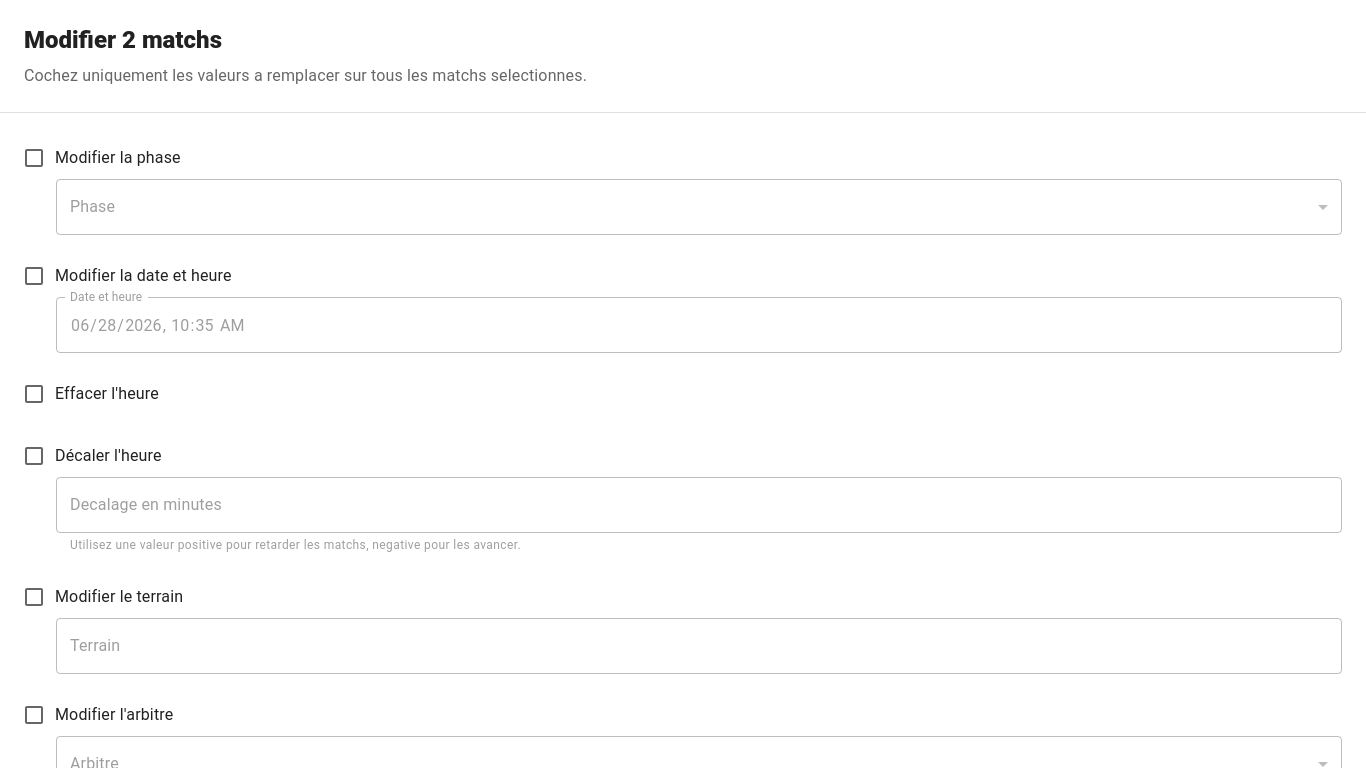
Test: BulkUpdateGamesForm › should display an API error and keep the form open
The image size is (1366, 768).
Step 1. Click the checkbox labelled "Modifier le terrain" → (103, 597), box [22,585,183,609]
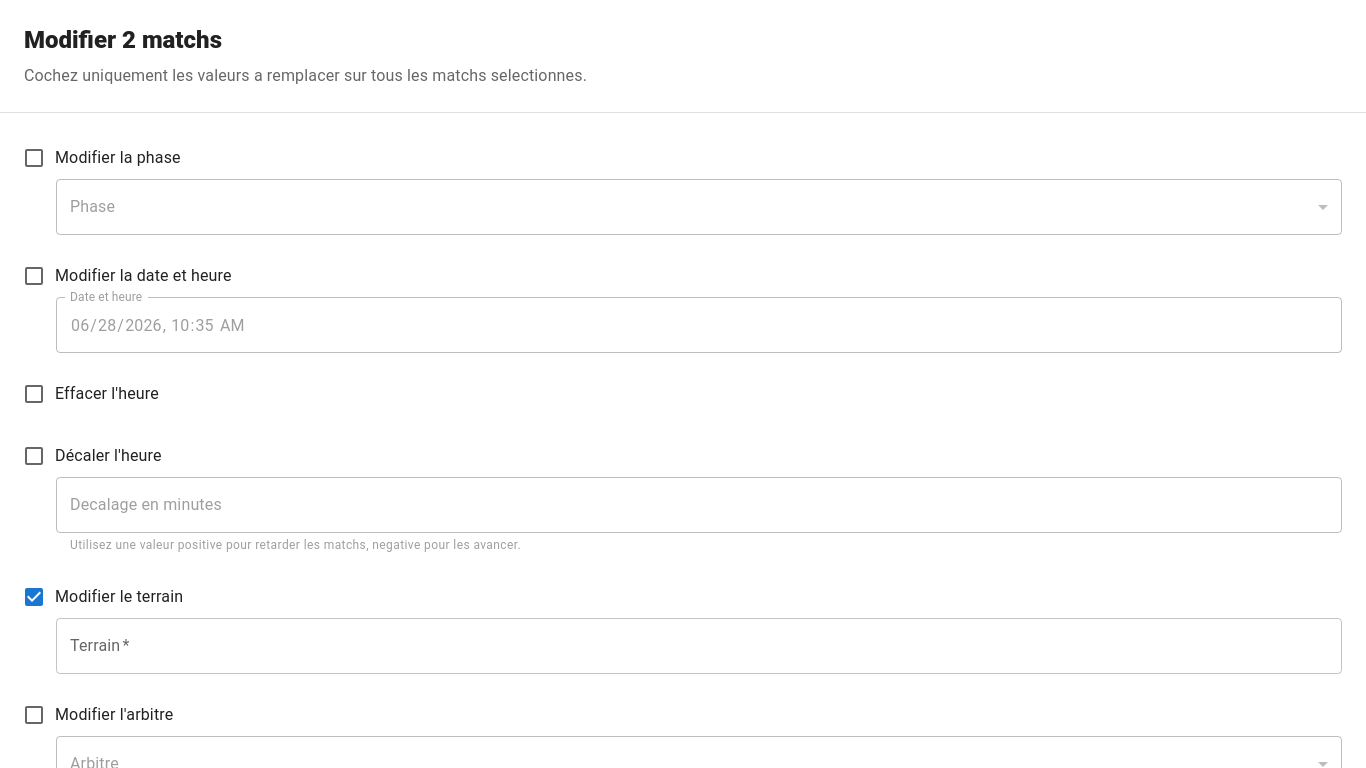
Step 2. Type "Central" into the field labelled "Terrain" → (699, 646), box [56,618,1342,674]
(page scrolled)
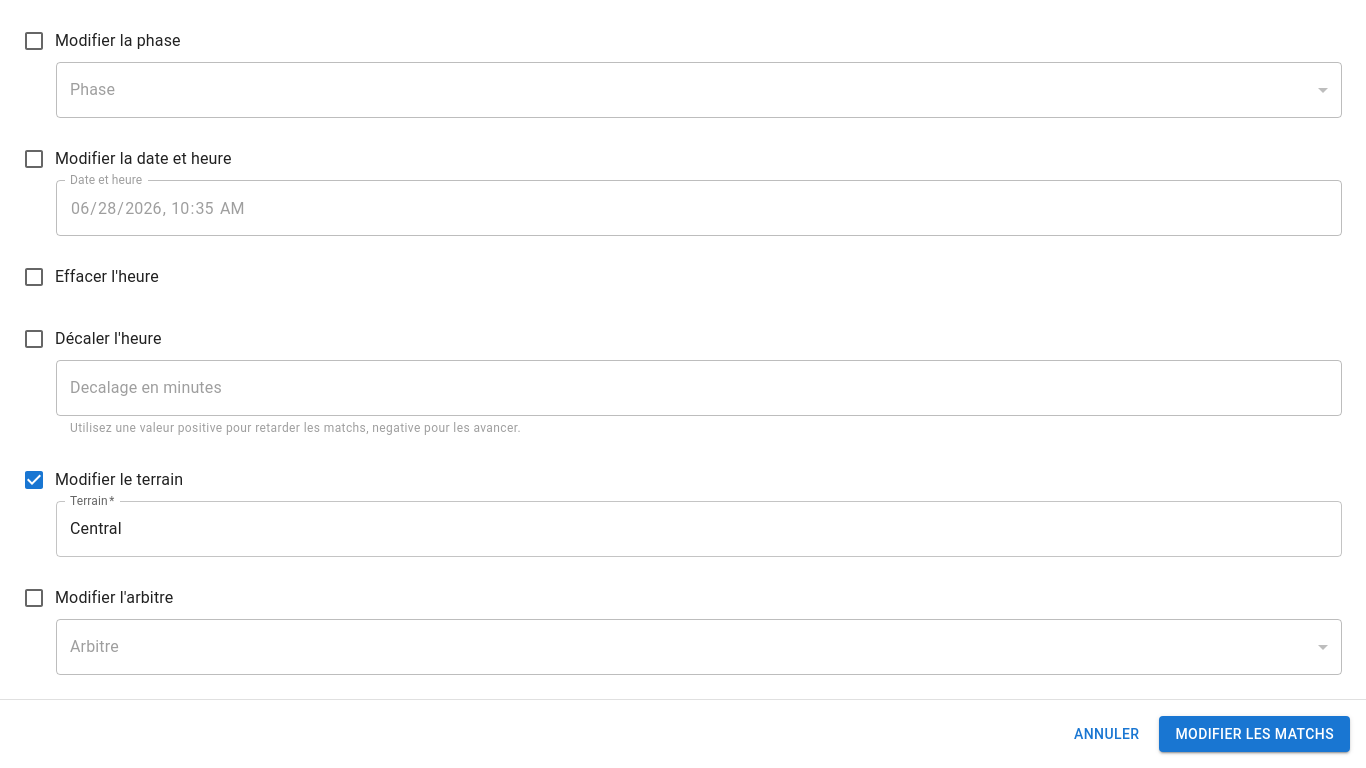
Step 3. Click the button "Modifier les matchs" → (1255, 734), box [1159,716,1350,752]
(page scrolled)
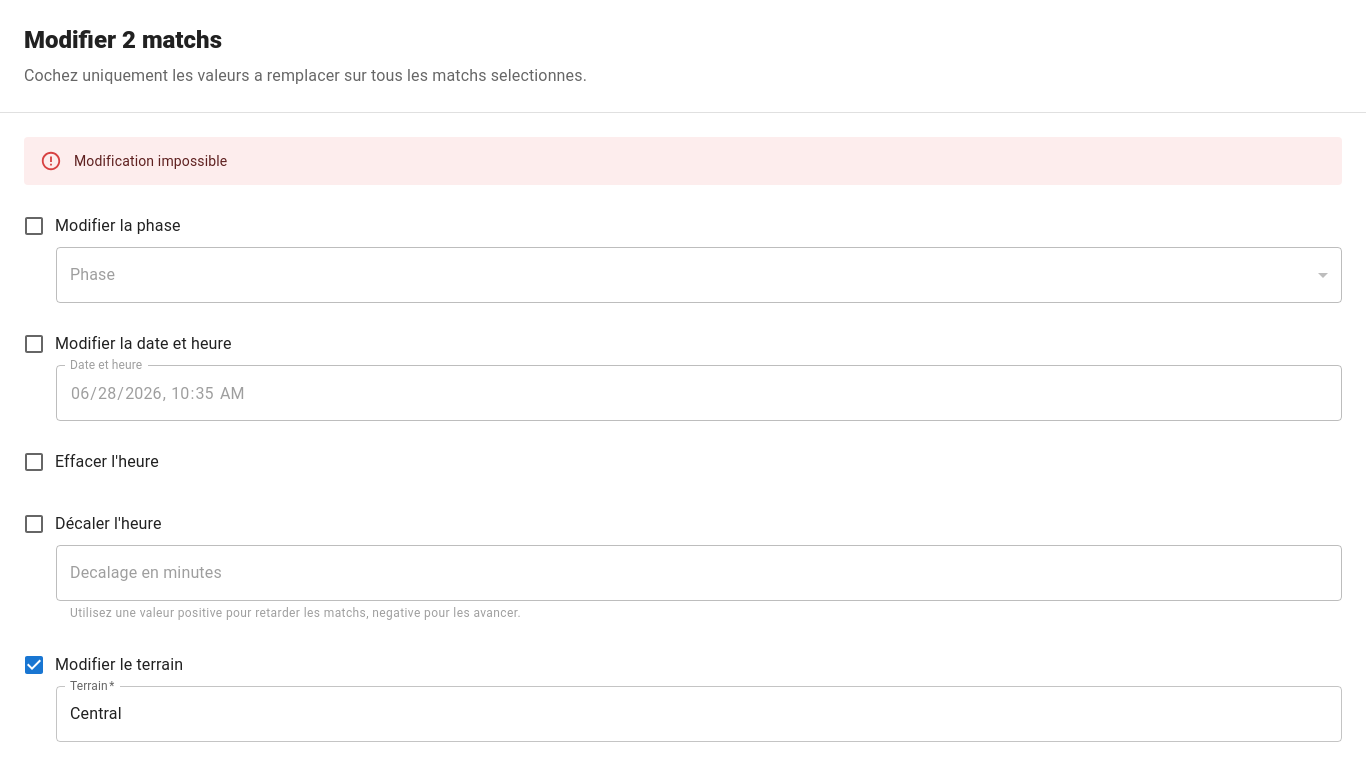
Check: the heading "Modifier 2 matchs" is shown, box [24,26,222,54]
Check: the text "Modification impossible" is shown, box [74,153,227,169]
